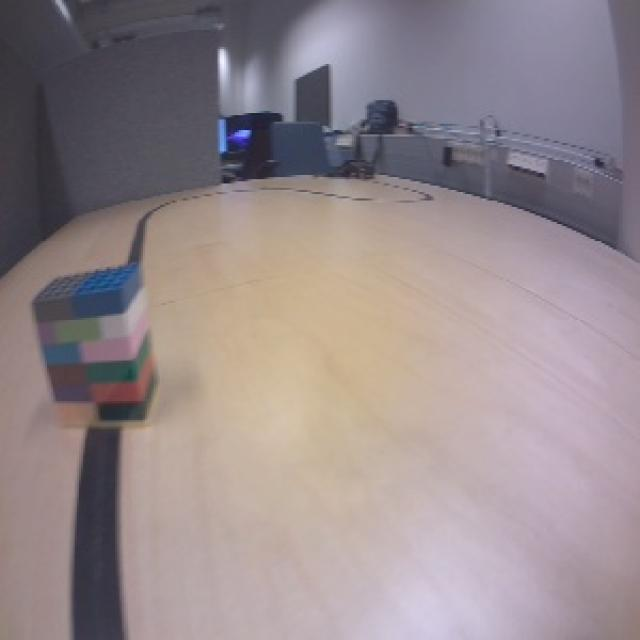obstacle: (27, 257, 164, 433)
